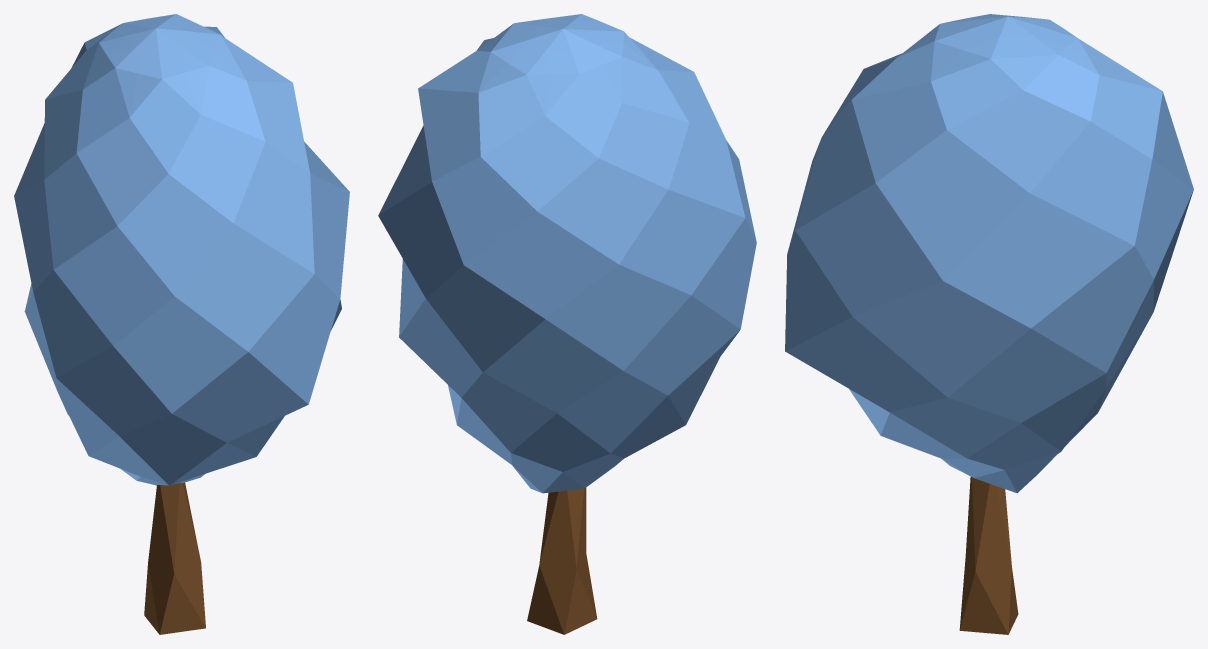
Rendered from Blue tree 1.fbx.
The picture shows the model from 3 angles, left to right: view 1: azimuth 30°, elevation 25°; view 2: azimuth 150°, elevation 25°; view 3: azimuth 270°, elevation 25°; orthographic projection.
Parts seen in each view (by area): view 1: Cube.149; view 2: Cube.149; view 3: Cube.149.
Boxes of the visible parts, x1,y1,x2,y2 form: Cube.149: (14,14,349,634); Cube.149: (378,14,756,634); Cube.149: (785,14,1193,634).
Size of the model in its own units: 648 by 1205 by 743.
